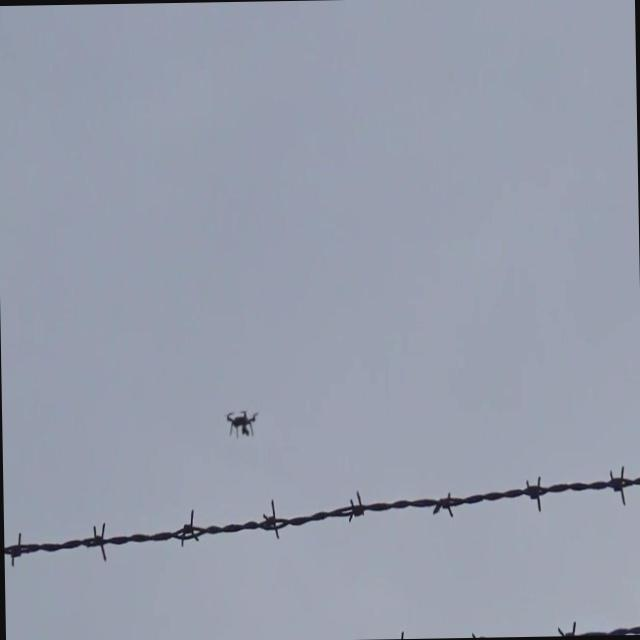drone: (223, 409, 260, 440)
